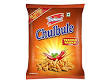plastic: (24, 3, 87, 81)
